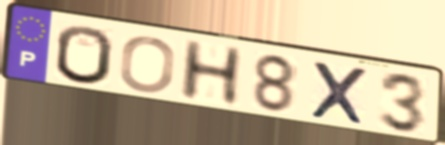3: (377, 72, 430, 134)
8: (252, 53, 299, 115)
H: (176, 38, 247, 107)
O: (53, 24, 116, 87), (116, 35, 178, 95)
X: (308, 58, 370, 128)
